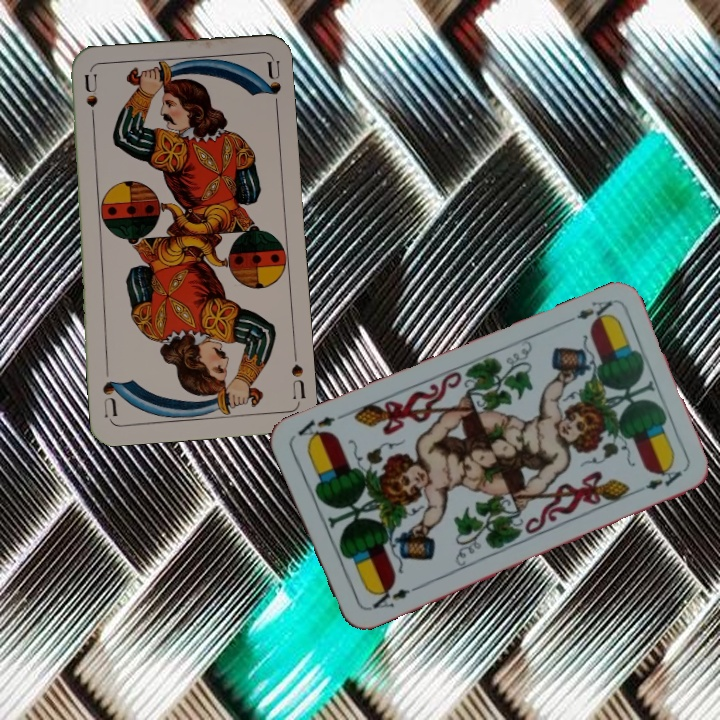EA: (364, 582, 413, 612), (572, 296, 616, 328)
SU: (80, 71, 100, 130), (287, 360, 308, 402)
